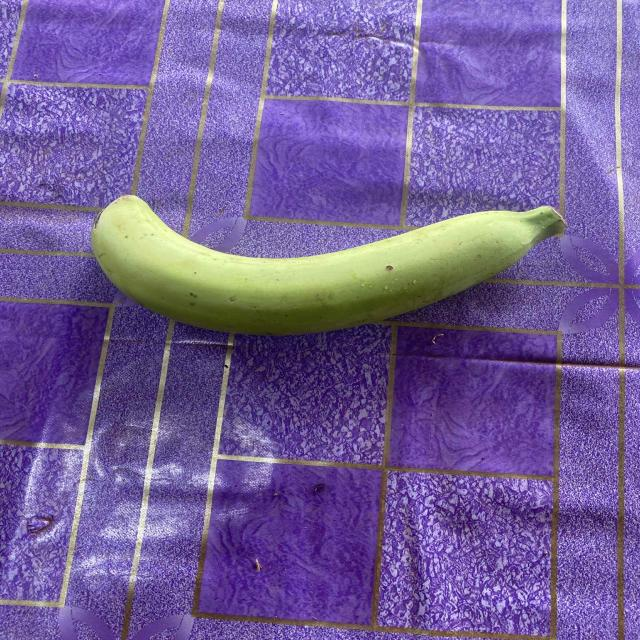Raw: (45, 158, 594, 360)
